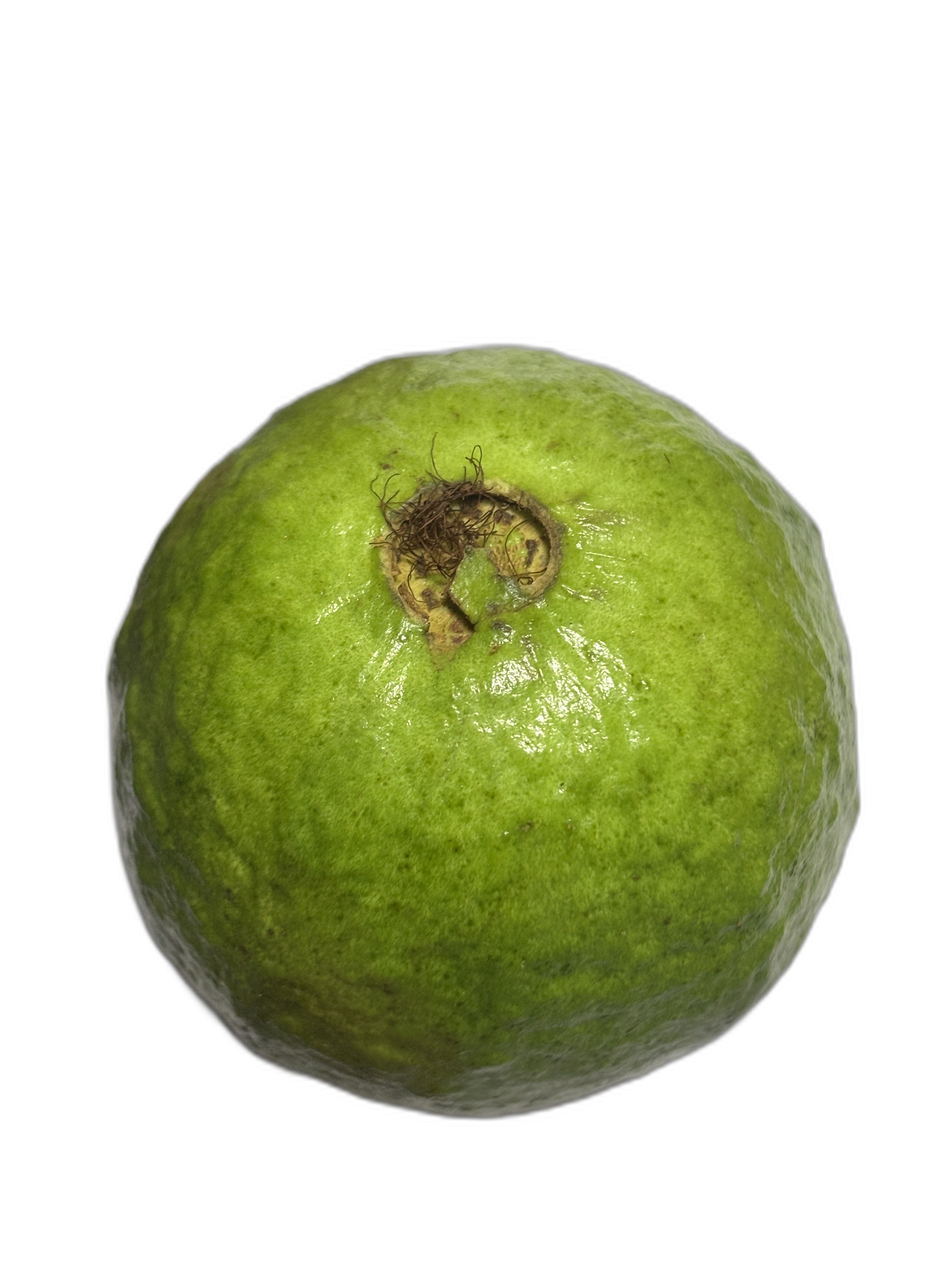guava: (187, 62, 922, 1007)
